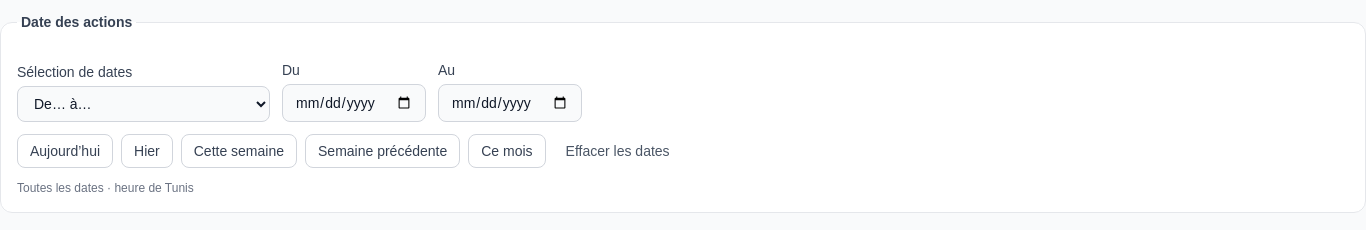
Test: audit calendar modes › allows a custom range and clears only dates
This screenshot has width=1366, height=230.
In the date field labelled "Du": (354, 103) [282,84,426,122], type "2026-09-01"
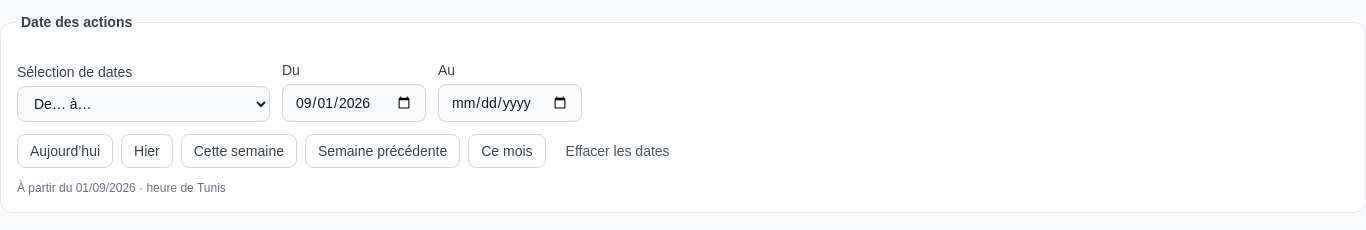
In the date field labelled "Au": (510, 103) [438,84,582,122], type "2026-10-16"
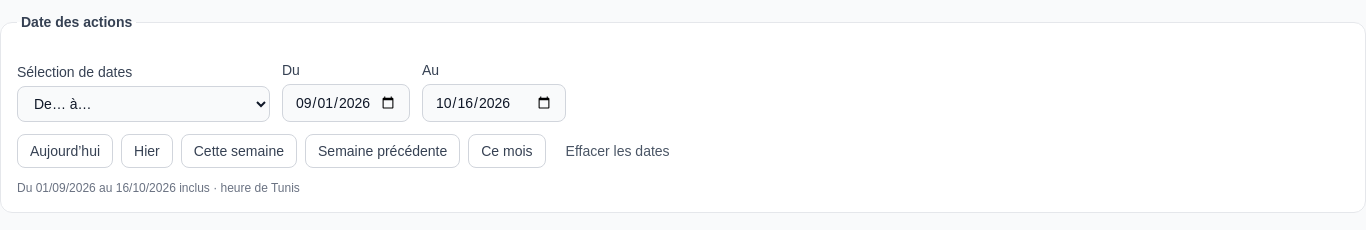
Click the button "Effacer les dates": click(618, 151) [554,134,682,168]
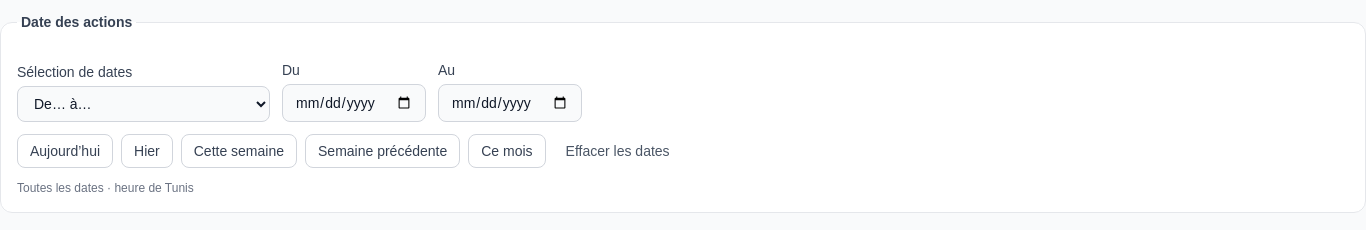
Check: the message shows "Toutes les dates", box [17,181,194,195]
